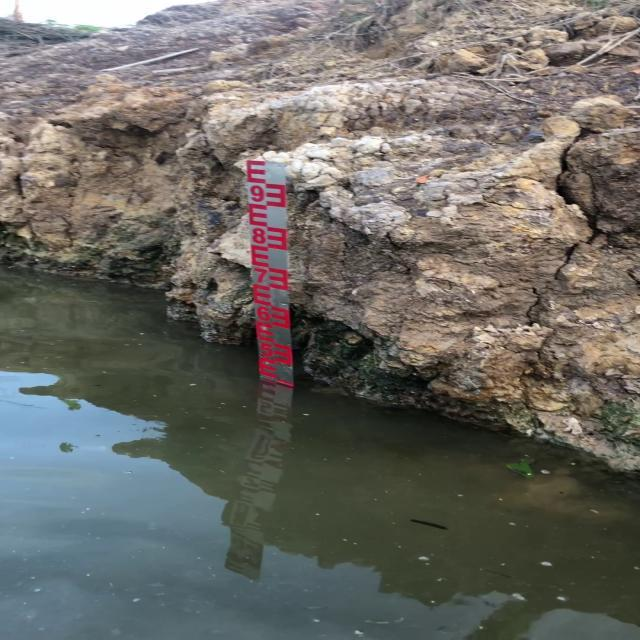ruler: (240, 148, 308, 385)
value: (246, 180, 266, 206), (249, 224, 269, 248), (254, 302, 274, 325), (252, 266, 272, 288), (257, 338, 275, 361)
